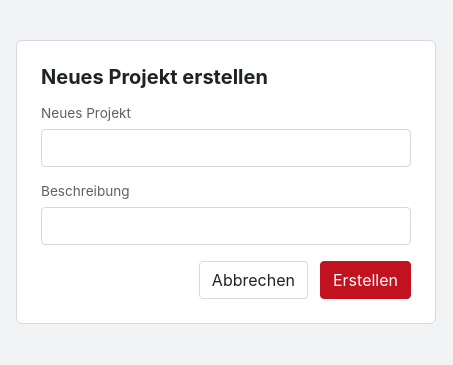
Test case: M7-S03 new project dialog › validation › shows error when name is empty and submit clicked
Step 1. Click the button "Erstellen" → {"x": 366, "y": 280}, box [320, 261, 411, 299]
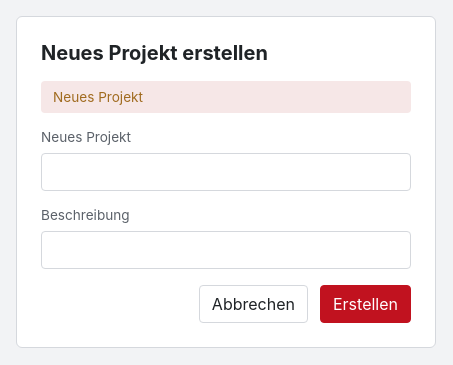
Check: the message "Neues Projekt" is shown, box [41, 81, 411, 113]
